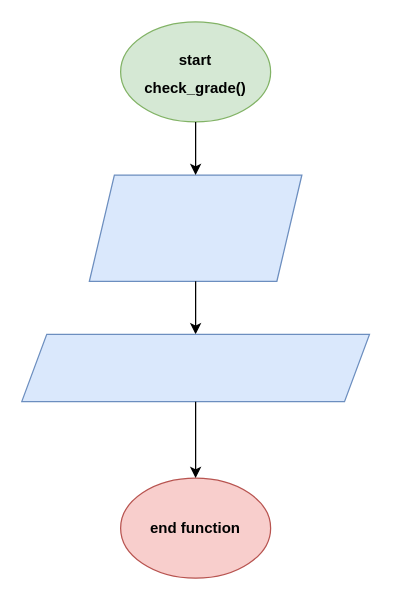
Some shapes in this 393 by 600 pixel diagram are drawn without their labels. The centre of each missing label's shape, as x and y in pixels:
input: self, grade: (x=195, y=227)
output: (grade in self.grade_range): (x=194, y=367)
